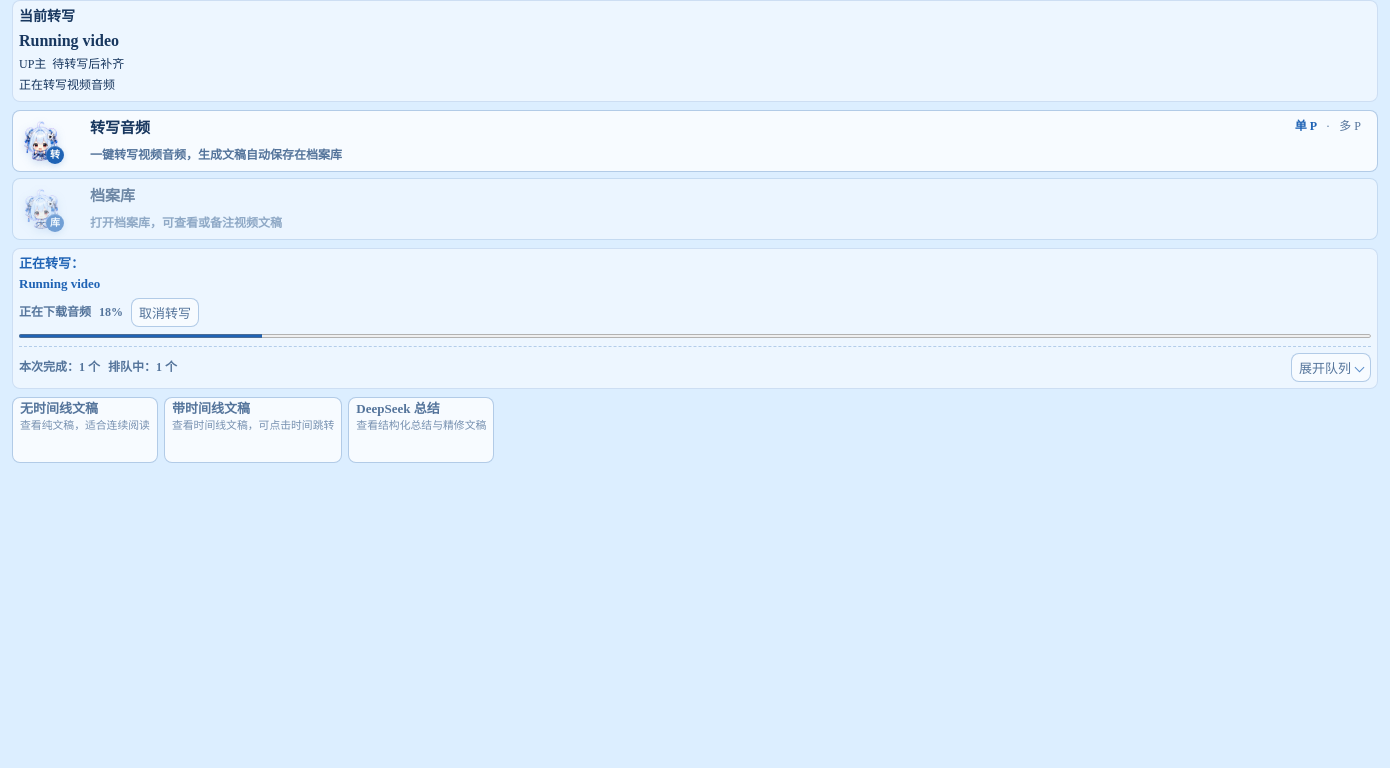
Test: VideoNotesPanel transcription queue › keeps active progress above the statistics and does not duplicate the running item after expansion
Expected: the element named "转写状态" shows "正在下载音频", [19,305,91,319]
Expected: the element named "转写状态" shows "本次完成：1 个", [12,248,1378,389]
Click the button with aria-label "展开转写队列".
click(1331, 368)  # box [1291,353,1371,382]
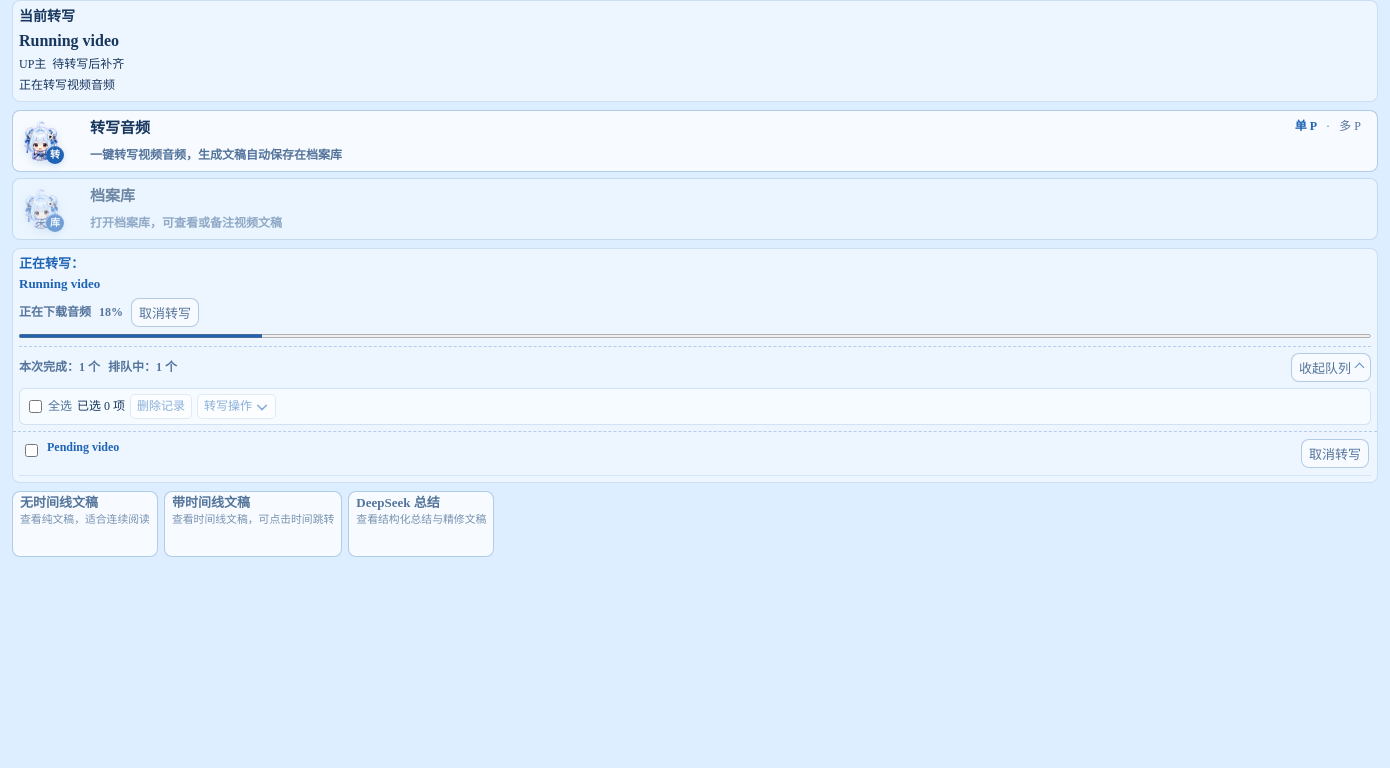
Expected: the button with aria-label "正在转写：Running video" is shown, [19,255,1371,293]
Expected: the button with aria-label "等待转写：Pending video" is shown, [47,439,1295,456]
